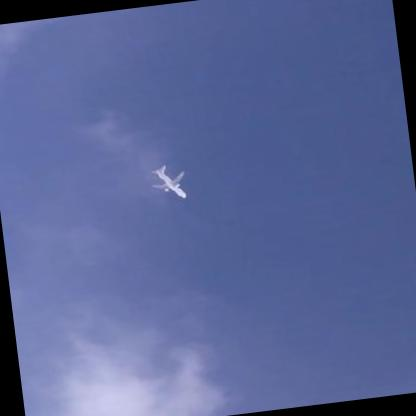plane: (148, 160, 192, 207)
